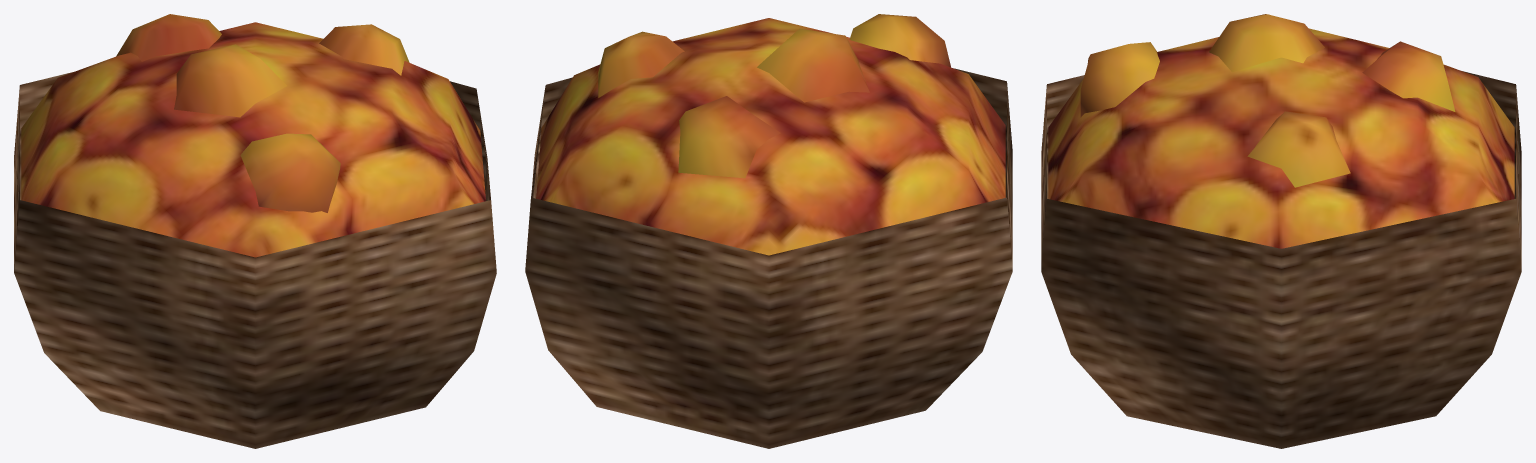
File: orangebasket.fbx
The picture shows the model from 3 angles, left to right: view 1: azimuth 30°, elevation 25°; view 2: azimuth 150°, elevation 25°; view 3: azimuth 270°, elevation 25°; orthographic projection.
Visible parts, largest first — view 1: lod_high, pSphere1, pSphere5, pSphere2, pSphere4, pSphere3; view 2: lod_high, pSphere1, pSphere4, pSphere2, pSphere3, pSphere5; view 3: lod_high, pSphere1, pSphere3, pSphere2, pSphere5, pSphere4.
Part boxes in pixels (box(x1,y1,x2,y2)): lod_high: box(14, 72, 496, 448); pSphere1: box(21, 22, 485, 257); pSphere5: box(240, 133, 340, 212); pSphere2: box(174, 44, 286, 117); pSphere4: box(116, 14, 221, 61); pSphere3: box(319, 24, 409, 75); lod_high: box(525, 68, 1012, 448); pSphere1: box(536, 18, 1005, 255); pSphere4: box(678, 96, 780, 178); pSphere2: box(757, 28, 869, 102); pSphere3: box(598, 31, 684, 97); pSphere5: box(849, 14, 950, 67); lod_high: box(1041, 71, 1521, 448); pSphere1: box(1048, 28, 1514, 248); pSphere3: box(1247, 111, 1350, 187); pSphere2: box(1209, 14, 1324, 72); pSphere5: box(1080, 42, 1159, 117); pSphere4: box(1362, 41, 1455, 111).
Bounding box in the file's own units: 91.82 × 62.6 × 81.1.
Materials: 1 (1 with a texture image).
